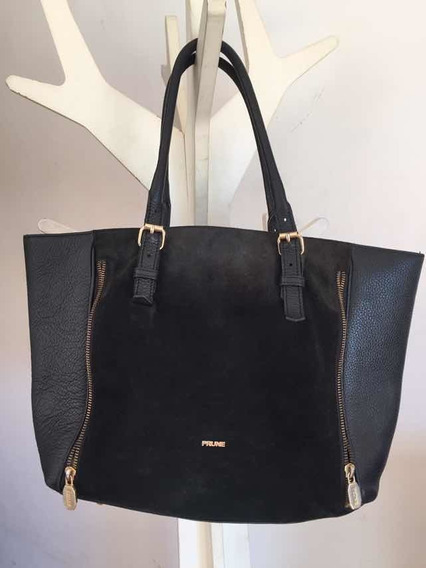cartera: (20, 32, 426, 524)
